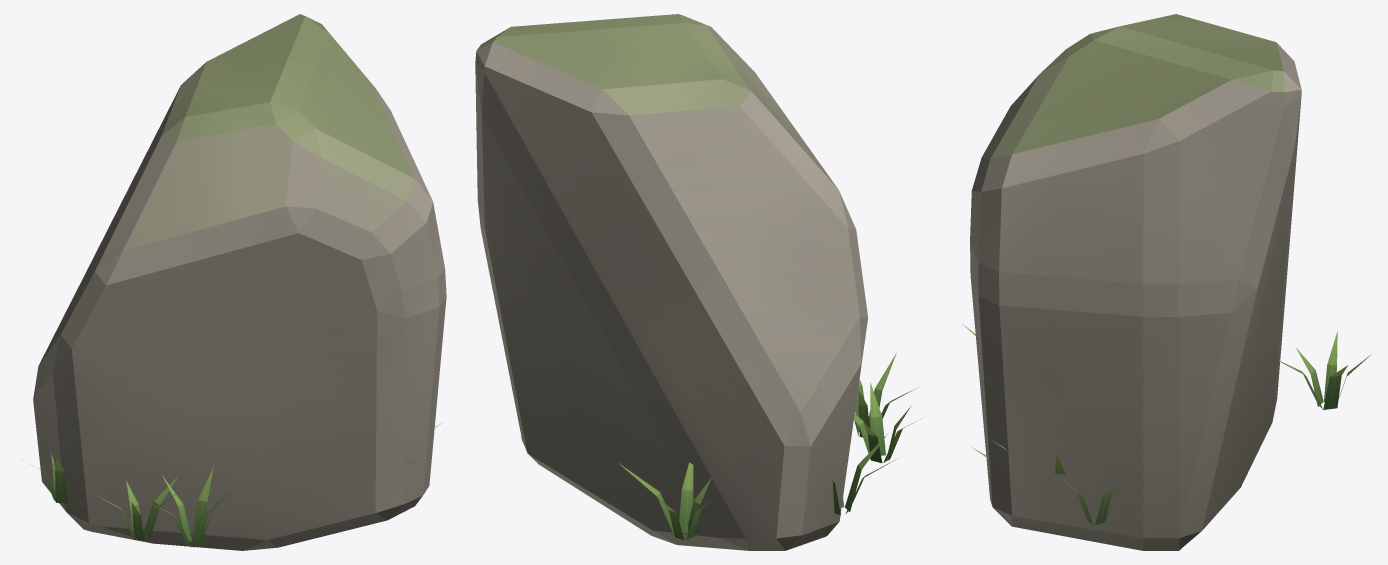
File: boulder_4.glb
3 renders of one model, left to right at view 1: azimuth 30°, elevation 25°; view 2: azimuth 150°, elevation 25°; view 3: azimuth 270°, elevation 25°, orthographic. The views are drawn at different scales.
Parts seen in each view (by area): view 1: boulder_4_rock, boulder_4_weeds; view 2: boulder_4_rock, boulder_4_weeds; view 3: boulder_4_rock, boulder_4_weeds.
Part boxes in pixels (left/top/right/bottom): boulder_4_rock: left=33, top=14, right=446, bottom=550; boulder_4_weeds: left=23, top=424, right=440, bottom=547; boulder_4_rock: left=475, top=14, right=867, bottom=550; boulder_4_weeds: left=618, top=353, right=922, bottom=540; boulder_4_rock: left=970, top=14, right=1301, bottom=550; boulder_4_weeds: left=961, top=323, right=1371, bottom=525.
Bounding box in the file's own units: 1.88 × 2.15 × 1.56.
2 materials, 2 textured.
